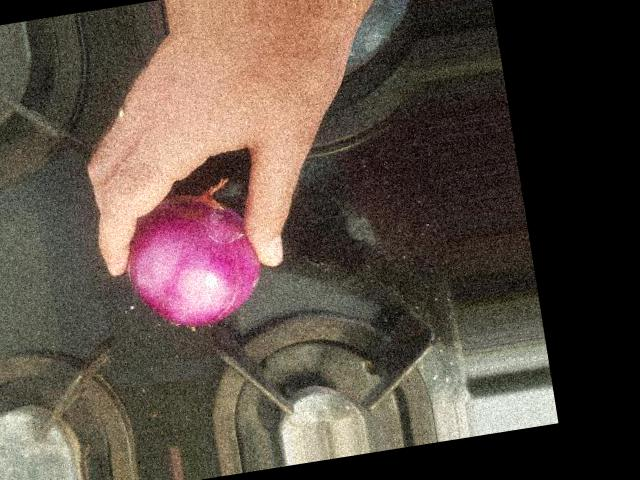onion: (122, 196, 263, 324)
